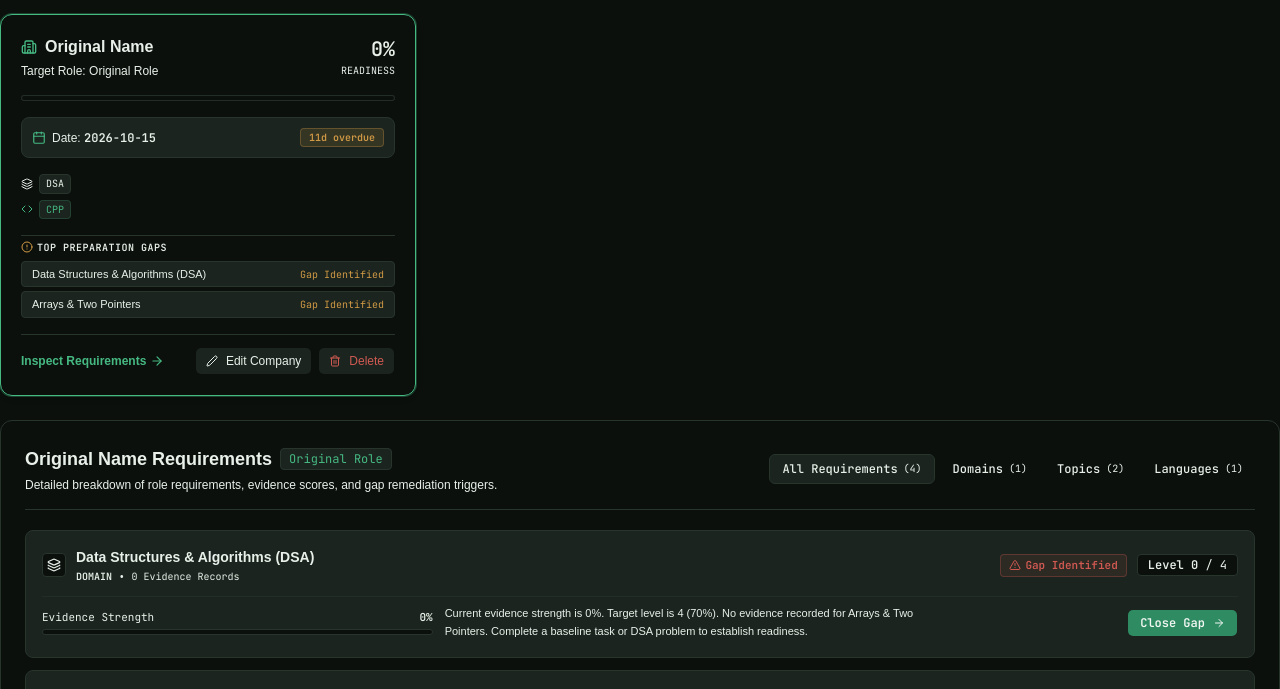
Test case: C4 — CompanyModal lifecycle (C4-01) › C2. closing and reopening the same company discards an abandoned edit
(page scrolled)
Click the button "Edit Company" at (254, 361), box [195,347,312,375]
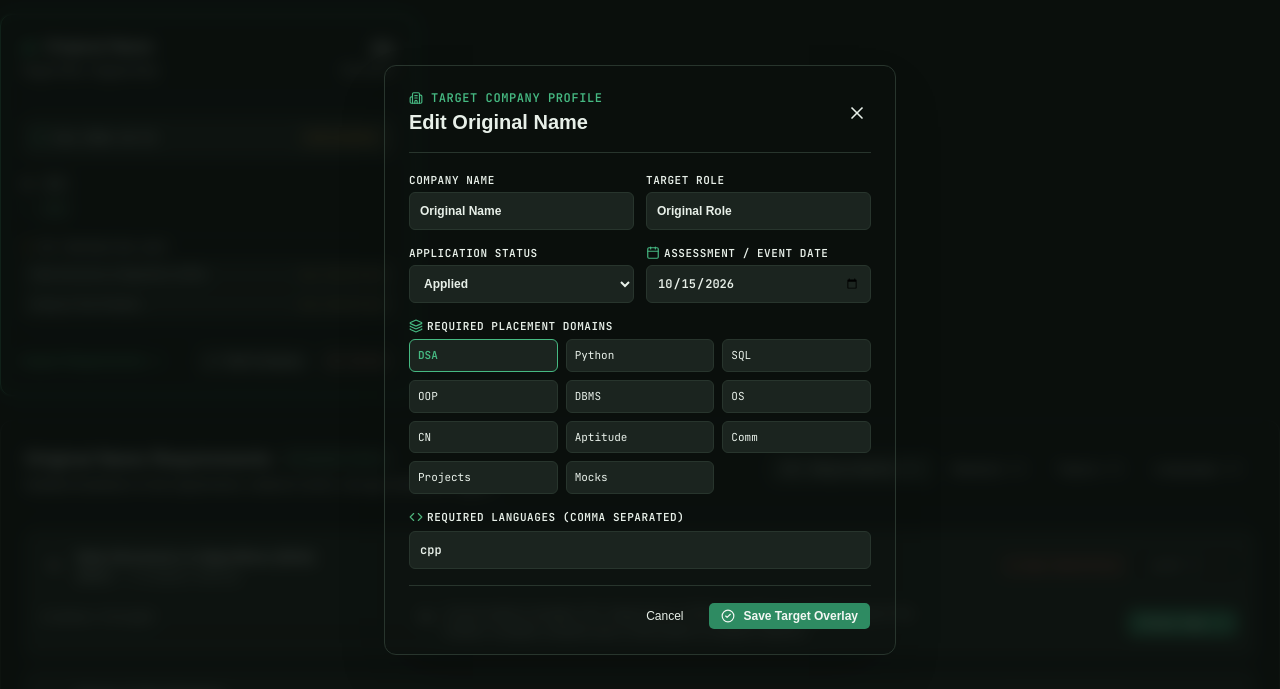
Replace the text in the field with placeholder "e.g. Google, Amazon, Microsoft" with "Typo That Was Never Saved" at (522, 211), box [409,192,634,230]
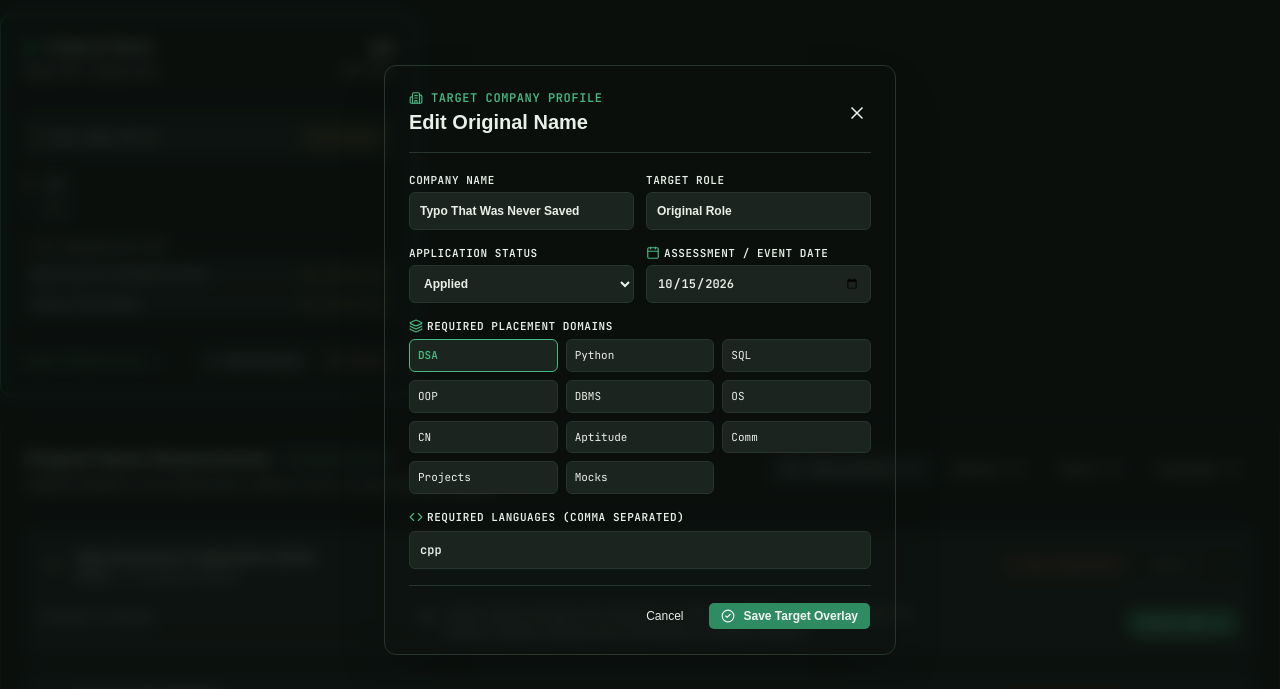
Click the button "Cancel" at (665, 616), box [633,602,696,630]
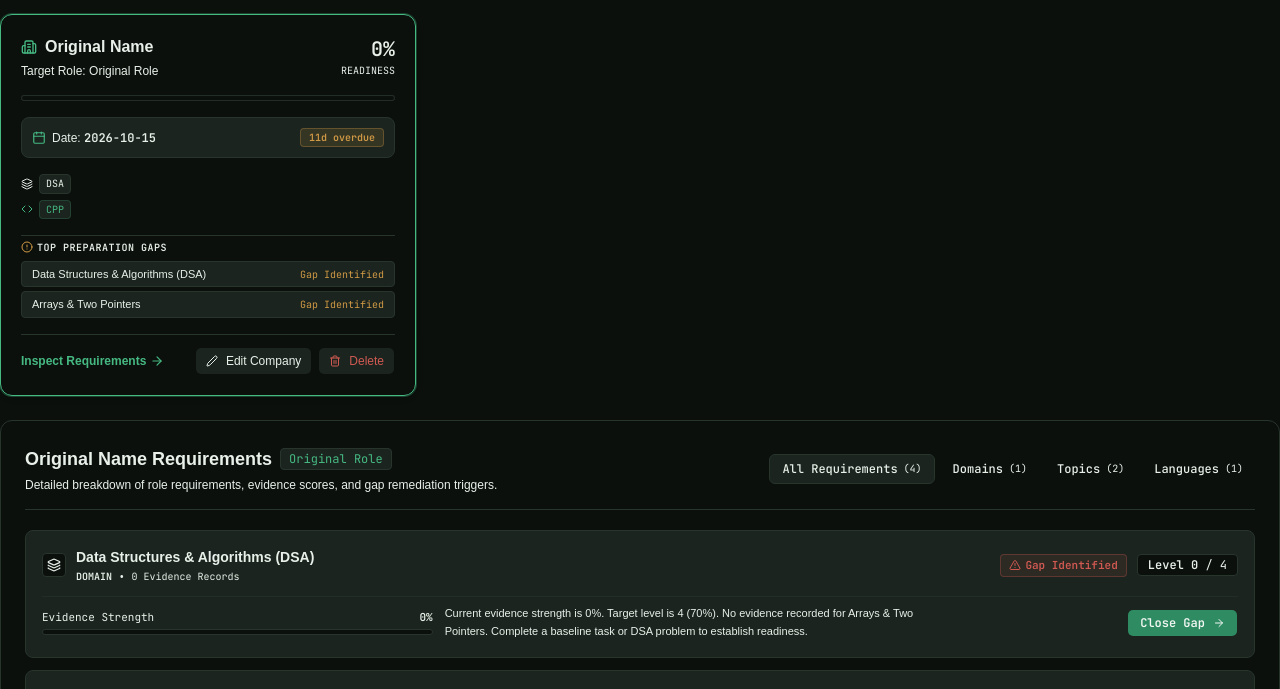
Click the button "Edit Company" at (254, 361), box [195,347,312,375]
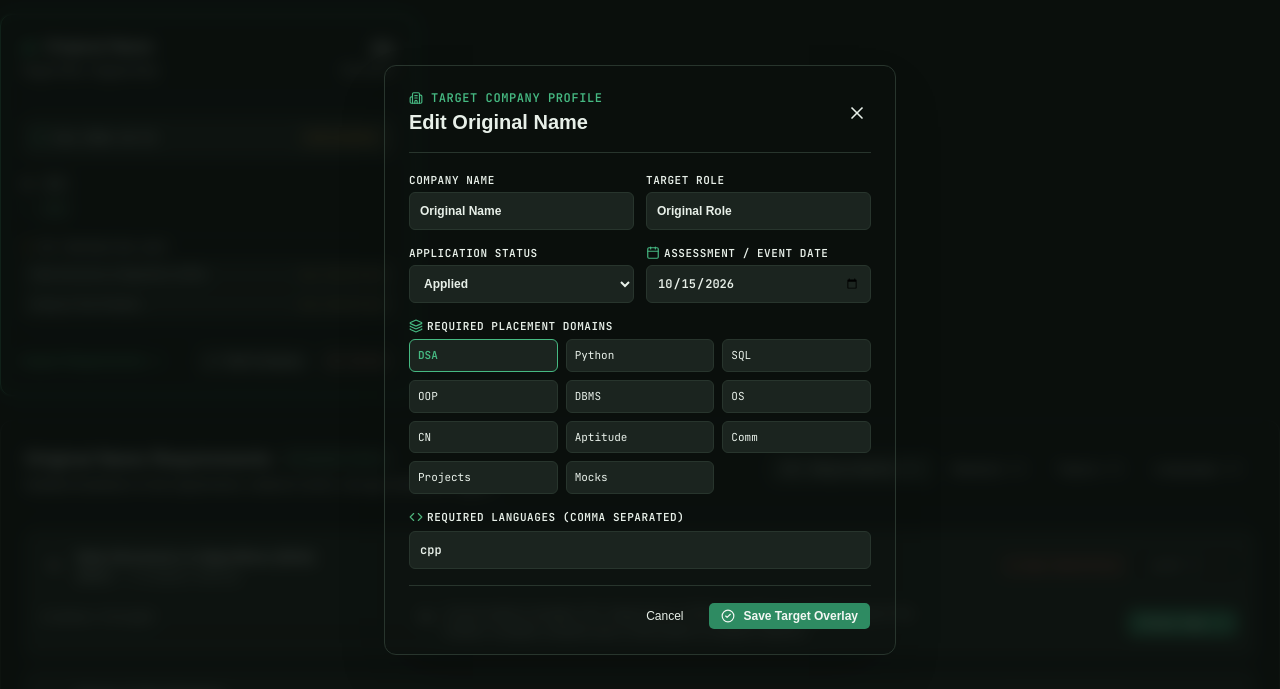
Now the field with placeholder "e.g. Google, Amazon, Microsoft" holds "Original Name", box [409,192,634,230]
Now the date field labelled "Assessment / Event Date" holds "2026-10-15", box [646,265,871,303]
